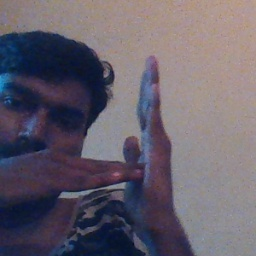Z: (71, 55, 188, 227)
